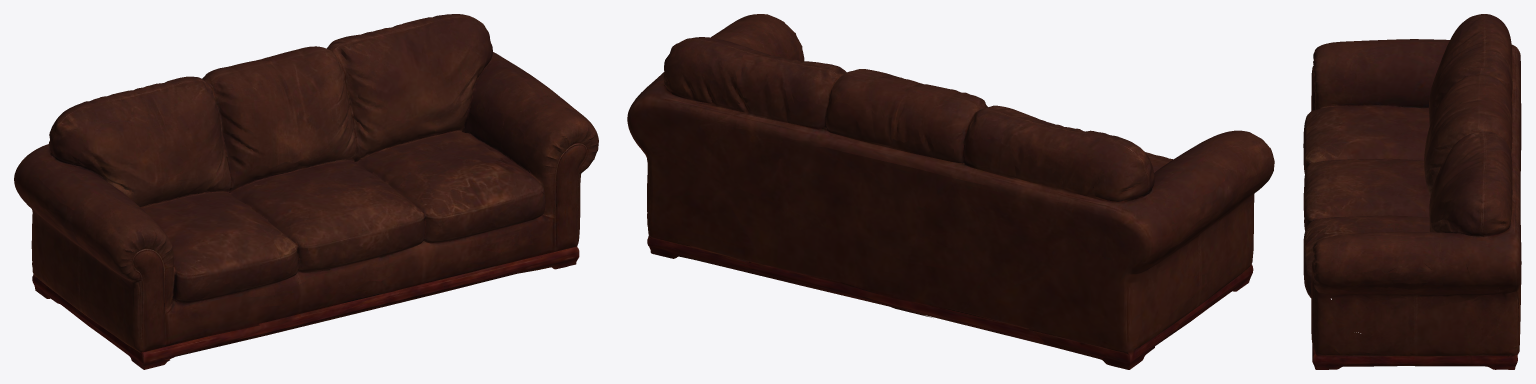
The model's file is w5sofa.glb.
The picture shows the model from 3 angles, left to right: view 1: azimuth 30°, elevation 25°; view 2: azimuth 150°, elevation 25°; view 3: azimuth 270°, elevation 25°; orthographic projection. The views are drawn at different scales.
Visible parts, largest first — view 1: output_unwrapped; view 2: output_unwrapped; view 3: output_unwrapped.
Boxes of the visible parts, x1,y1,x2,y2 form: output_unwrapped: (14,14,598,369); output_unwrapped: (627,14,1274,369); output_unwrapped: (1303,14,1521,369).
Size of the model in its own units: 2.1 by 0.7822 by 0.8814.
Materials: 1 (1 with a texture image).
